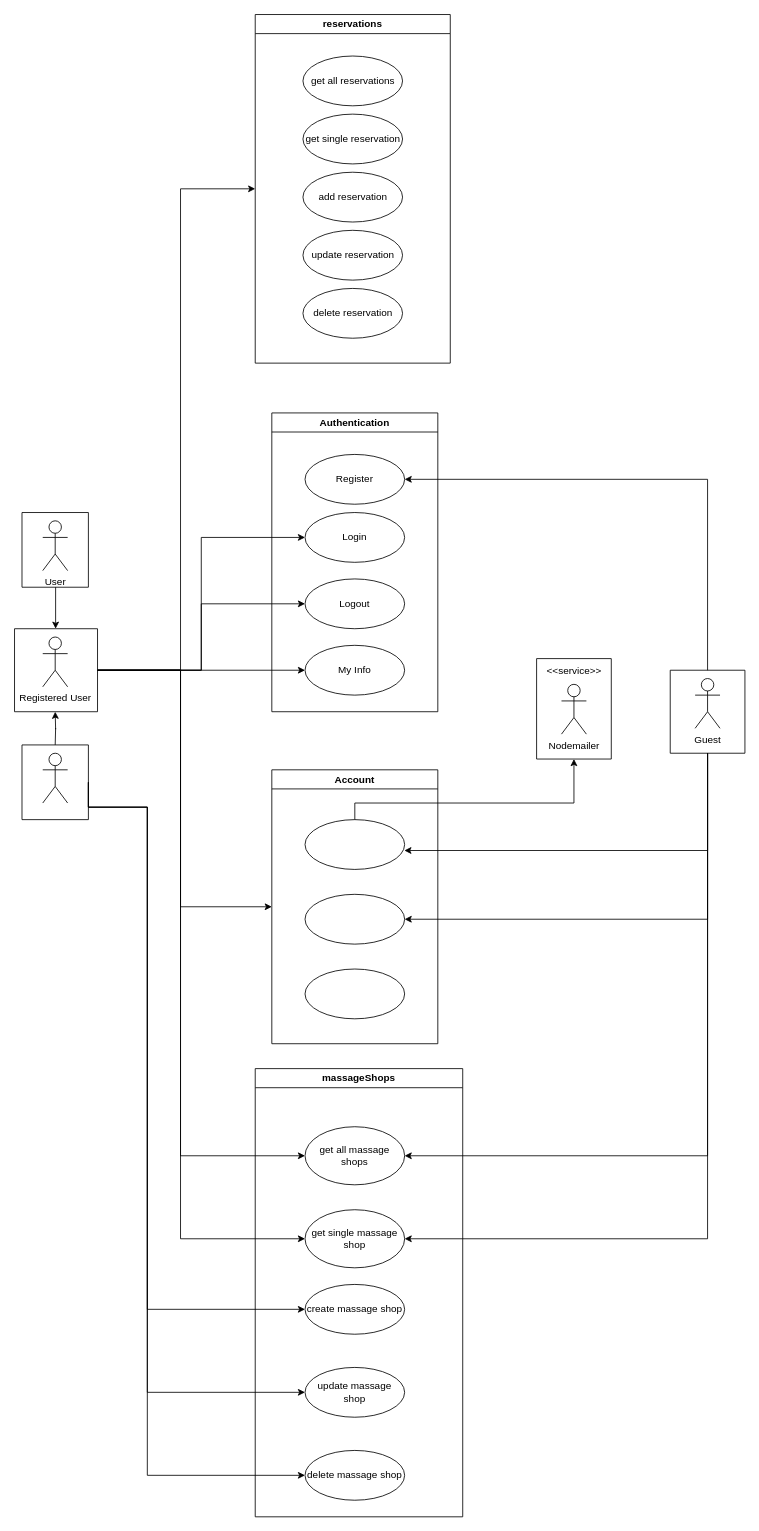
The diagram is 759 pixels wide and 1531 high, and some of its shapes have lost their labels. The centre of each missing label's shape, as x and y in pixels:
"Admin" belongs at point (55, 777).
"Delete Account" belongs at point (354, 993).
"Send OTP" belongs at point (354, 844).
"Verify Account" belongs at point (354, 918).
